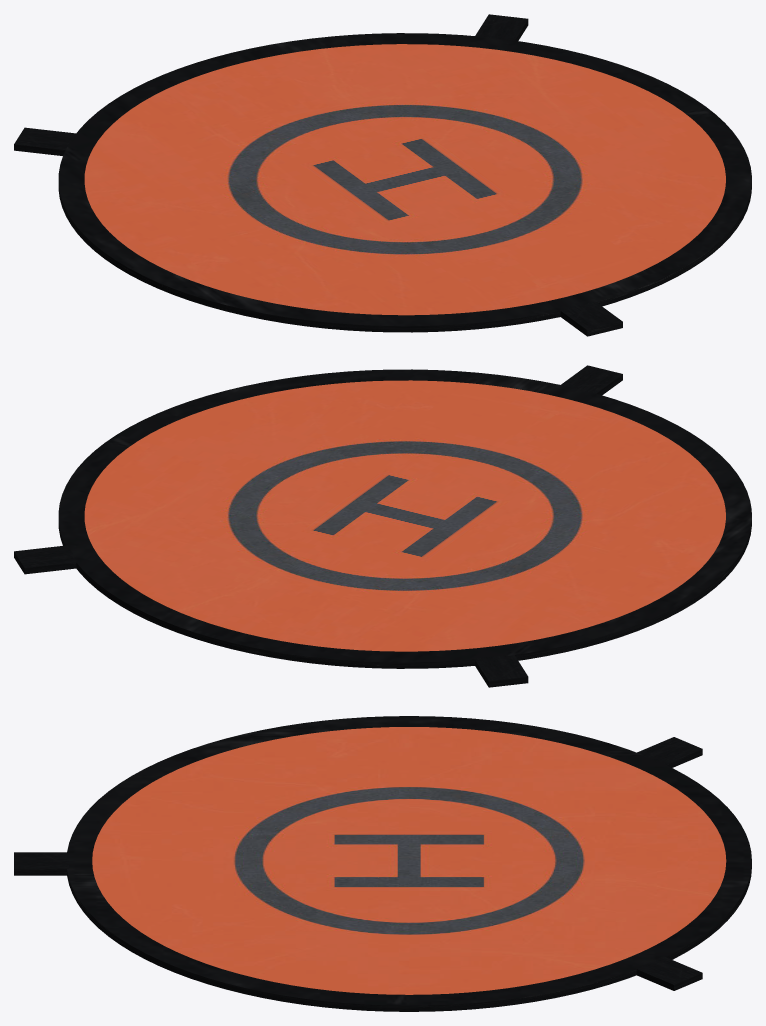
File: e_color_DronePad_orange.fbx
3 renders of one model, top to bottom at view 1: azimuth 30°, elevation 25°; view 2: azimuth 150°, elevation 25°; view 3: azimuth 270°, elevation 25°, orthographic.
Parts seen in each view (by area): view 1: DronePad_blue; view 2: DronePad_blue; view 3: DronePad_blue.
Part boxes in pixels (bbox=[...]): DronePad_blue: bbox=[14, 14, 751, 336]; DronePad_blue: bbox=[14, 365, 751, 687]; DronePad_blue: bbox=[14, 716, 751, 1011].
Bounding box in the file's own units: 200 × 2 × 215.
